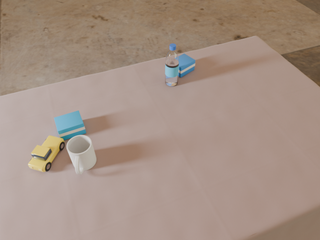bottle: (165, 44, 179, 86)
box: (54, 111, 86, 140), (178, 54, 195, 77)
cup: (67, 135, 96, 174)
toy_car: (28, 136, 64, 172)
